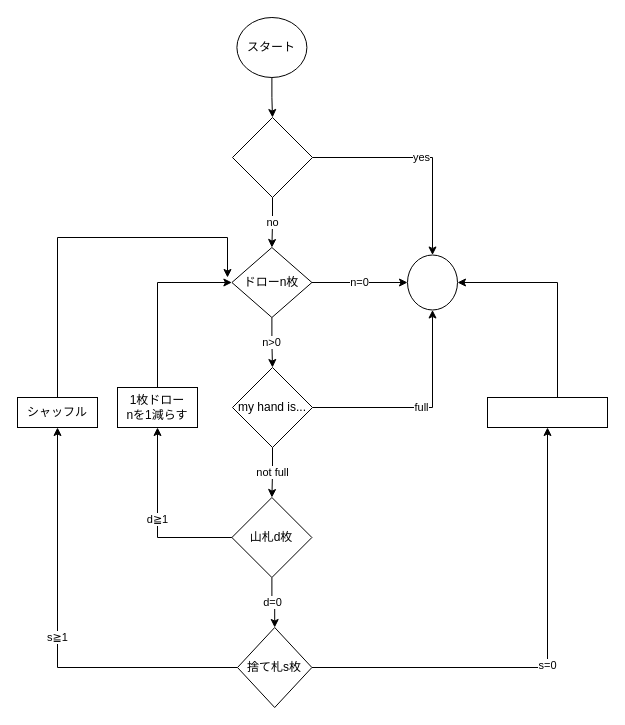
This 625x725 diagram has some shape labels left out. Each missing label, with the centre of its shape:
ボーナスシャッフル: pixel 547 412
山札捨て札0: pixel 272 157
終了: pixel 432 282
